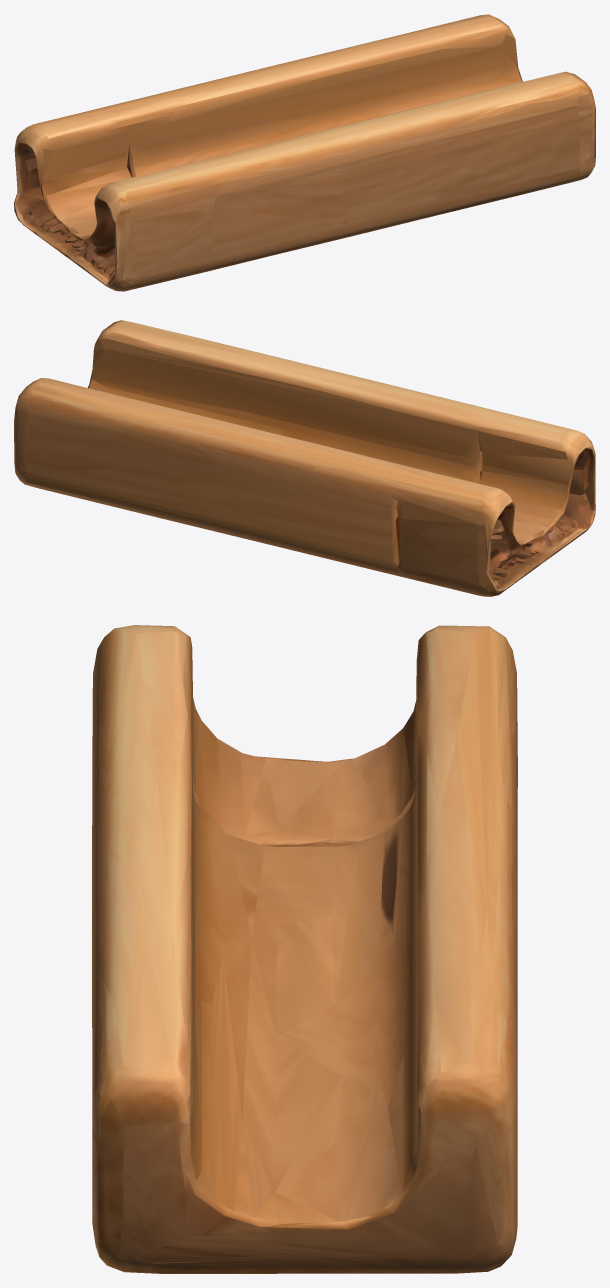
Rendered from channel_straight.glb.
3 views of the same model, one above another, from view 1: azimuth 30°, elevation 25°; view 2: azimuth 150°, elevation 25°; view 3: azimuth 270°, elevation 25° (orthographic). The views are drawn at different scales.
Visible parts, largest first — view 1: tripo_node_12e60879; view 2: tripo_node_12e60879; view 3: tripo_node_12e60879.
Boxes of the visible parts, <box> form: tripo_node_12e60879: <box>14,14,595,291</box>; tripo_node_12e60879: <box>14,320,595,596</box>; tripo_node_12e60879: <box>92,625,517,1273</box>.
Bounding box in the file's own units: 1 × 0.1978 × 0.3798.
Materials: 1 (1 with a texture image).
